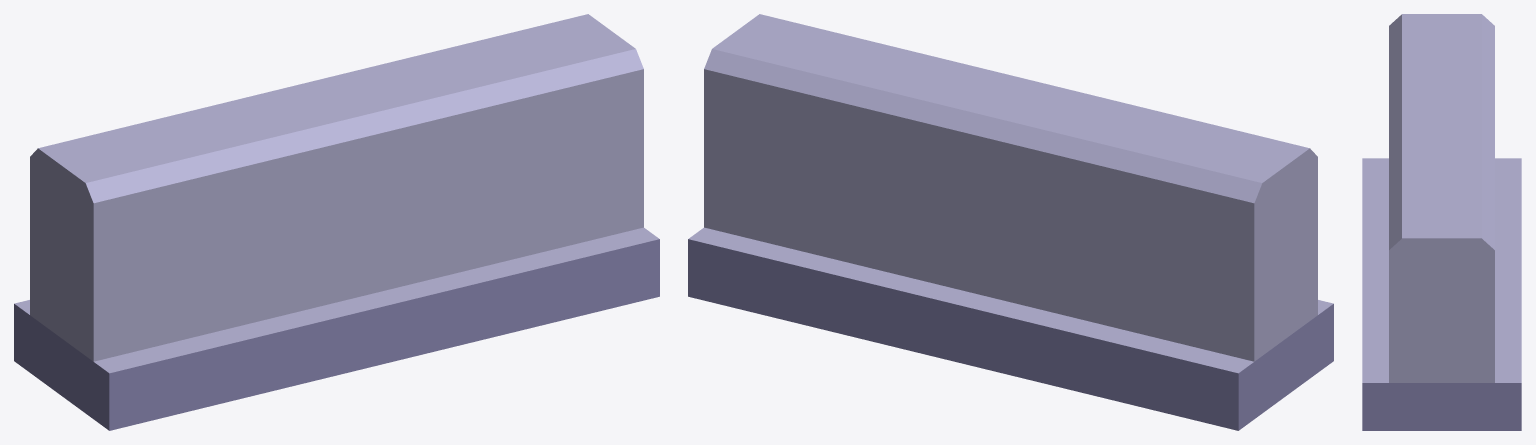
Rendered from BarriereVegeDroite.fbx.
3 views of the same model, side by side, from view 1: azimuth 30°, elevation 25°; view 2: azimuth 150°, elevation 25°; view 3: azimuth 270°, elevation 25° (orthographic). The views are drawn at different scales.
Visible parts, largest first — view 1: mergedBlocks; view 2: mergedBlocks; view 3: mergedBlocks.
Boxes of the visible parts, x1,y1,x2,y2 form: mergedBlocks: (14,14,659,430); mergedBlocks: (688,14,1333,430); mergedBlocks: (1362,14,1521,430).
Bounding box in the file's own units: 10 × 4 × 3.
